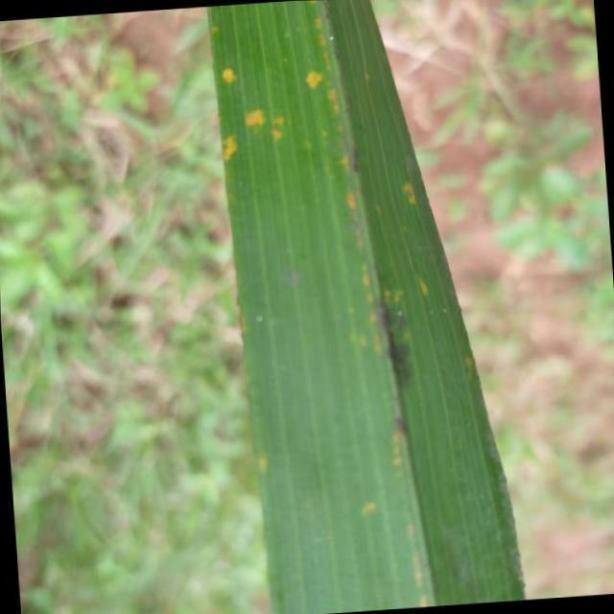Kalium: (206, 3, 528, 614)
